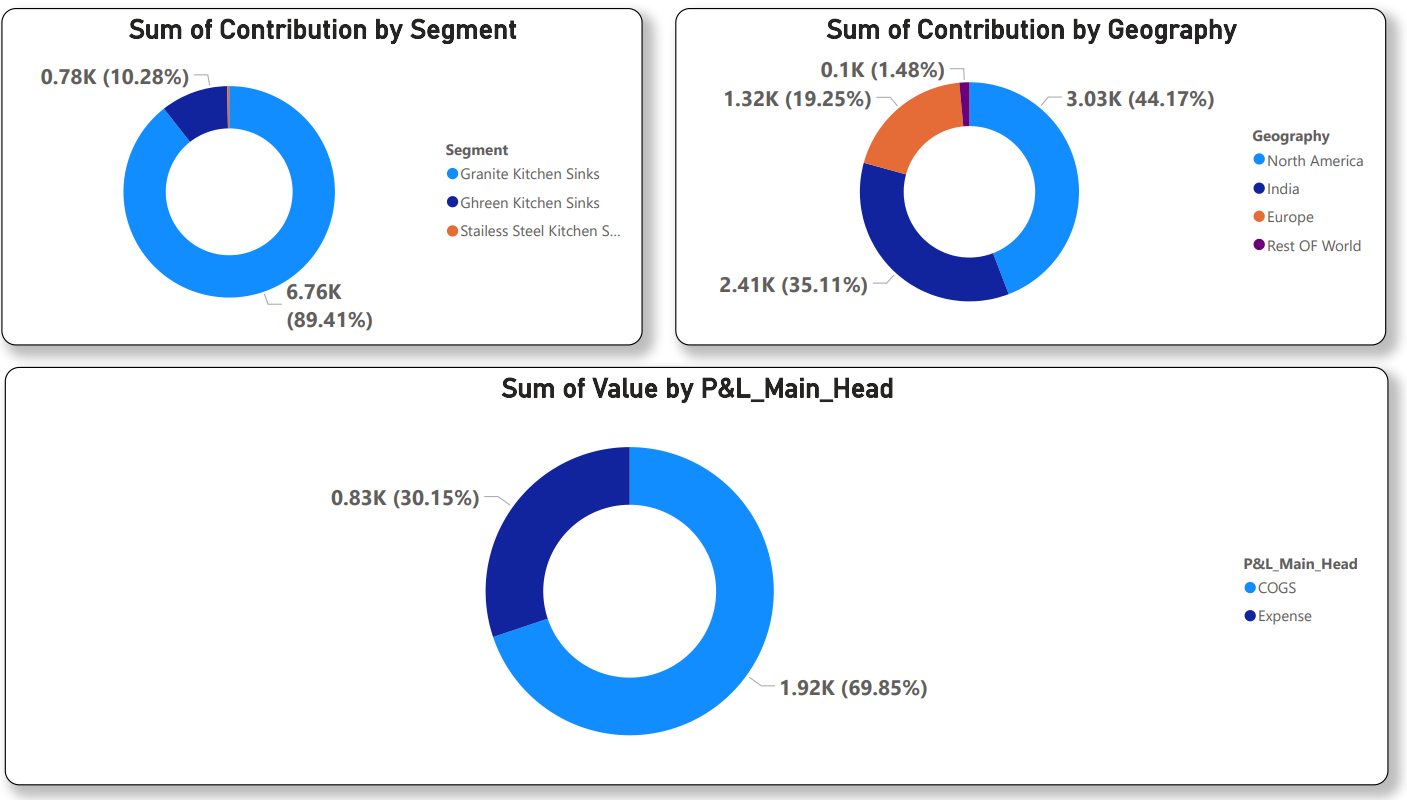

The dashboard page shown, as its layout file describes it:
{"tool":"powerbi","page":{"name":"Revenue & Expense","canvas":[1280,720],"ordinal":2},"visuals":[{"type":"donutChart","fields":{"Category":["Segment Contribution.Segment"],"Y":["Sum(Segment Contribution.Contribution)"]},"box":[19.3,15.7,569.4,300.4],"z":0},{"type":"donutChart","fields":{"Category":["Geography Contribution.Geography"],"Y":["Sum(Geography Contribution.Contribution)"]},"box":[617.7,15.7,632.2,300.4],"z":1000},{"type":"donutChart","fields":{"Category":["P&L Dim.P&L_Main_Head"],"Y":["Sum(P&L Fact.Value)"]},"box":[21.7,335.4,1230.6,371.6],"z":2000}]}

Visuals, with their boxes in screenshot pixels (x1, y1, x2, y2), scaled from the page's 1280x720 canvas onto the 1407x801 screenshot:
donutChart - Segment Contribution.Segment x Sum(Segment Contribution.Contribution): {"x1": 21, "y1": 17, "x2": 647, "y2": 352}
donutChart - Geography Contribution.Geography x Sum(Geography Contribution.Contribution): {"x1": 679, "y1": 17, "x2": 1374, "y2": 352}
donutChart - P&L Dim.P&L_Main_Head x Sum(P&L Fact.Value): {"x1": 24, "y1": 373, "x2": 1377, "y2": 787}
